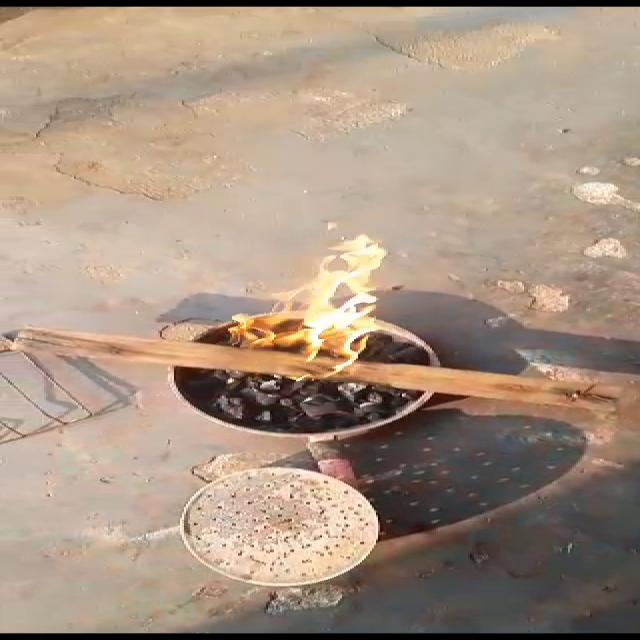Fire: (225, 224, 411, 380)
